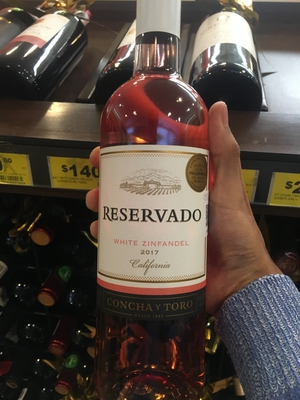reservado white zinfandel: (85, 34, 219, 400)
